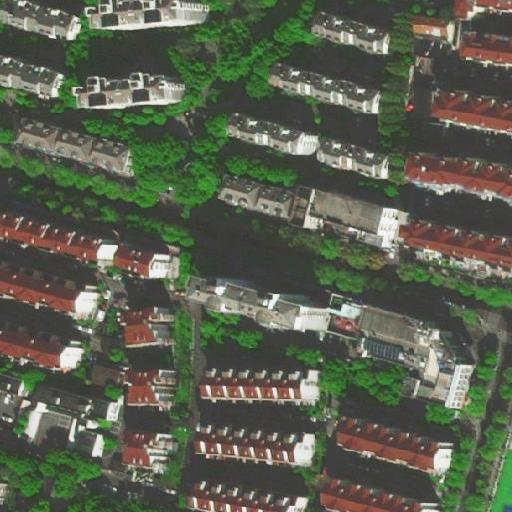building: (322, 292, 477, 411), (7, 210, 175, 284), (22, 379, 123, 468), (197, 272, 326, 330), (400, 218, 512, 277), (339, 413, 449, 473), (19, 123, 134, 176), (292, 183, 393, 240), (276, 66, 385, 115), (406, 148, 510, 196), (9, 269, 100, 320), (317, 472, 429, 512), (226, 114, 320, 158), (185, 479, 311, 511), (204, 426, 313, 460), (432, 88, 512, 134), (314, 13, 396, 55), (208, 369, 317, 400), (8, 330, 84, 374), (312, 133, 390, 175), (219, 177, 297, 219), (80, 77, 179, 110), (0, 55, 70, 96), (0, 370, 31, 451), (119, 431, 176, 472), (128, 305, 179, 346), (458, 29, 512, 65), (131, 370, 182, 407), (157, 33, 212, 61), (411, 17, 454, 43), (19, 464, 45, 501), (87, 361, 122, 388), (407, 47, 434, 74)
